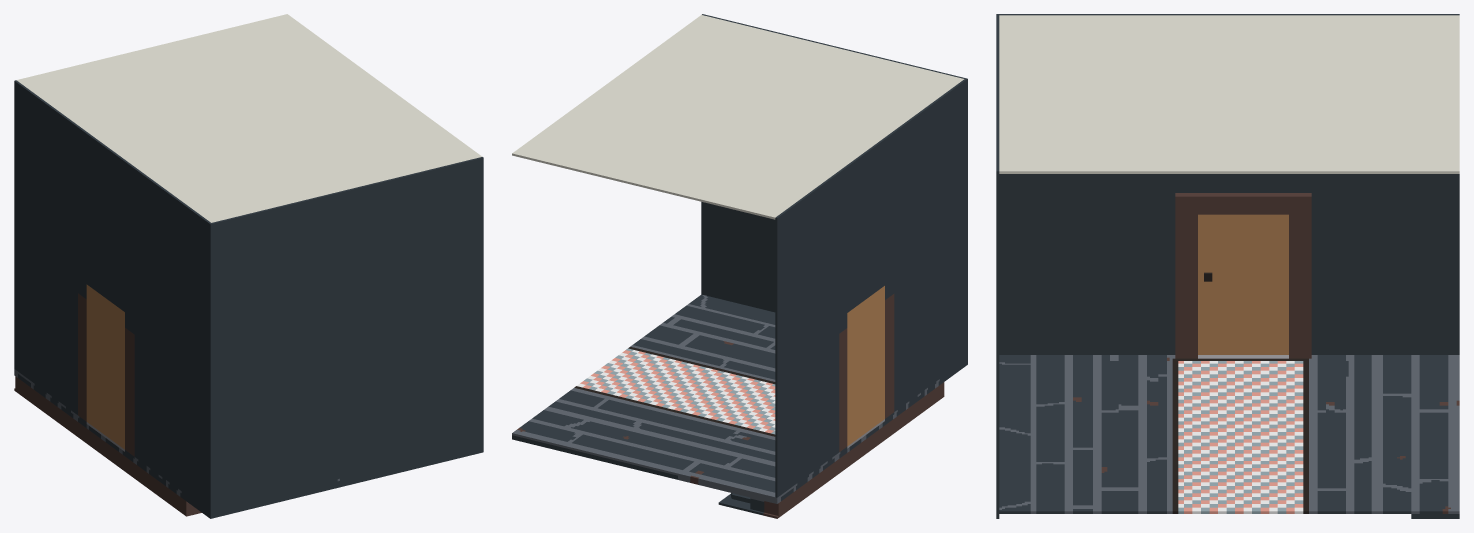
File: Player House-5-front.obj
3 renders of one model, left to right at view 1: azimuth 30°, elevation 25°; view 2: azimuth 150°, elevation 25°; view 3: azimuth 270°, elevation 25°, orthographic. The views are drawn at different scales.
Visible parts, largest first — view 1: front; view 2: front; view 3: front.
Boxes of the visible parts, x1=… form: front: x1=14, y1=14, x2=483, y2=518; front: x1=512, y1=14, x2=967, y2=518; front: x1=996, y1=14, x2=1459, y2=518.
Size of the model in its own units: 13.1 by 14.2 by 16.3.
1 material, 1 textured.
